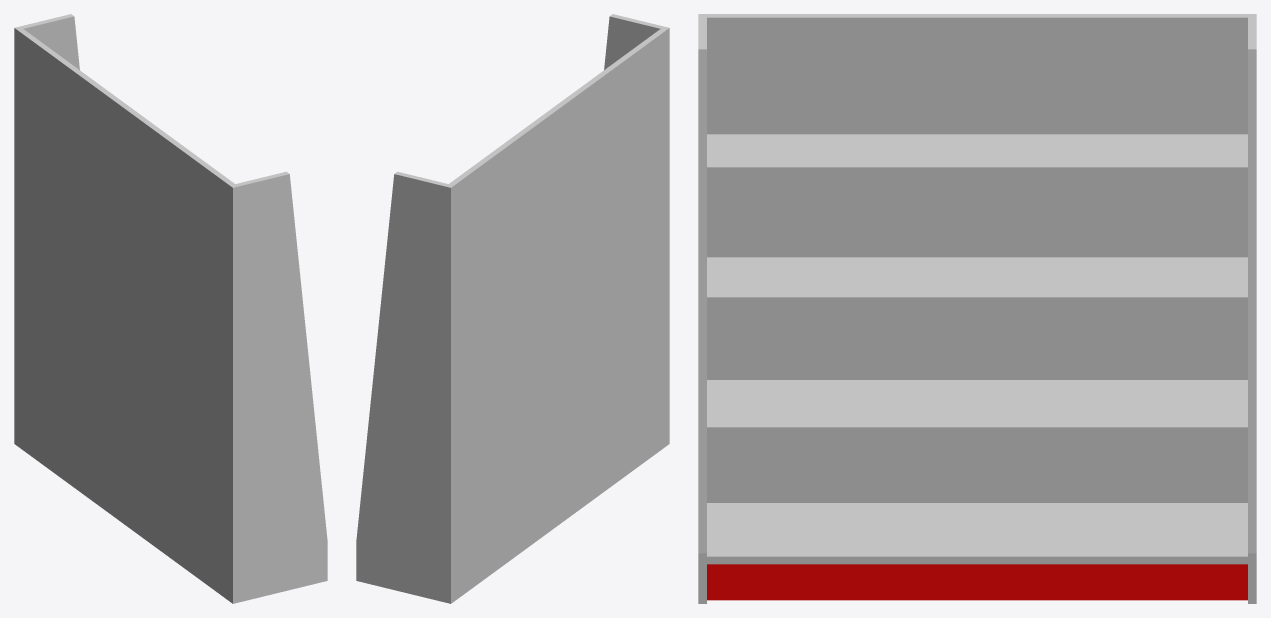
Rendered from Bomboniere 1,00.glb.
3 views of the same model, side by side, from view 1: azimuth 30°, elevation 25°; view 2: azimuth 150°, elevation 25°; view 3: azimuth 270°, elevation 25° (orthographic). The views are drawn at different scales.
Visible parts, largest first — view 1: Geom3D_ (×3); view 2: Geom3D_ (×3); view 3: Geom3D_ (×7), Geom3D.
Part boxes in pixels (x1=…): Geom3D_ (×3): x1=14, y1=14, x2=327, y2=603; Geom3D_ (×3): x1=356, y1=14, x2=669, y2=603; Geom3D_ (×7): x1=698, y1=14, x2=1256, y2=603; Geom3D: x1=707, y1=564, x2=1247, y2=600.
Bounding box in the file's own units: 0.25 × 1.05 × 1.
